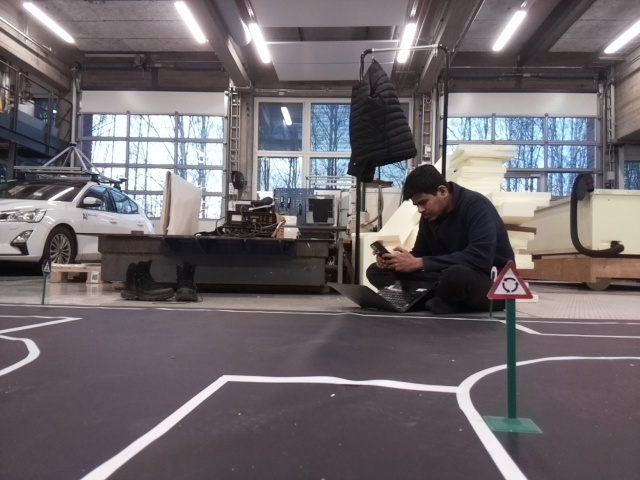Roundabout: (487, 260, 536, 299)
